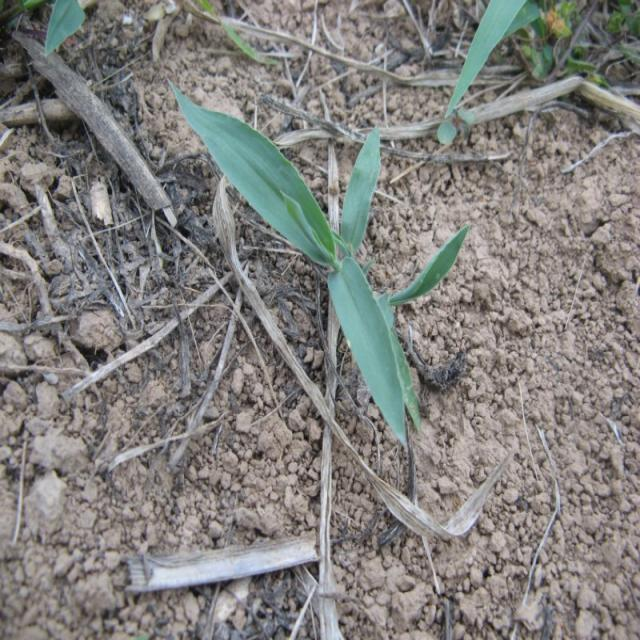bg: (162, 77, 466, 450)
